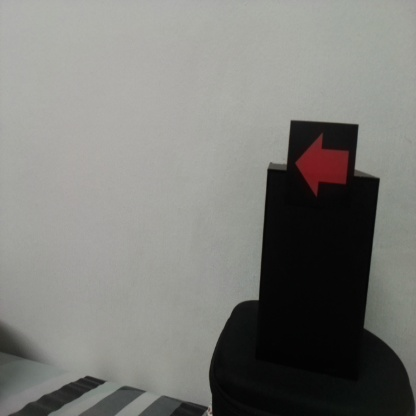id_4: (291, 122, 355, 214)
